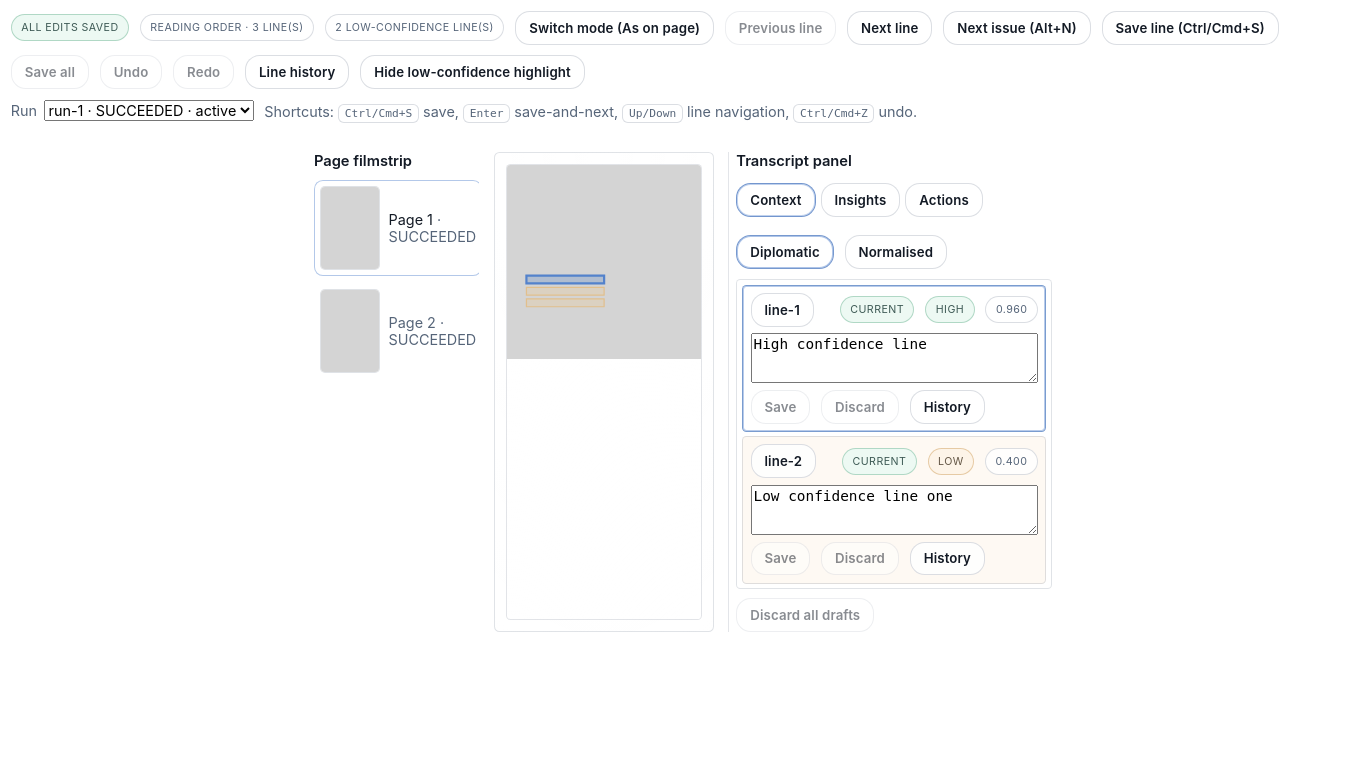
transcription workspace interactions › shows selected-line confidence inspector and char cues
Click the button "line-2" at (783, 461), box [750, 444, 816, 478]
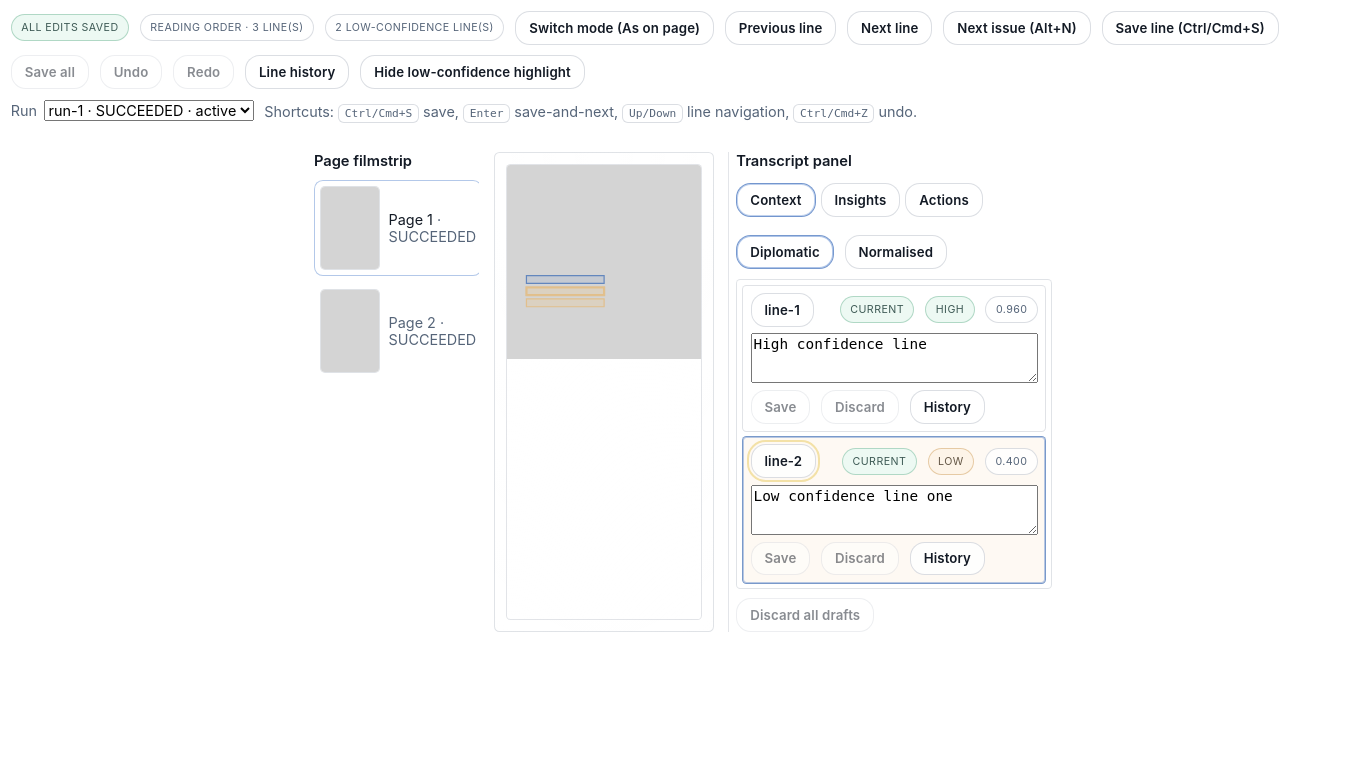
Click the tab "Insights" at (860, 200), box [821, 183, 900, 217]
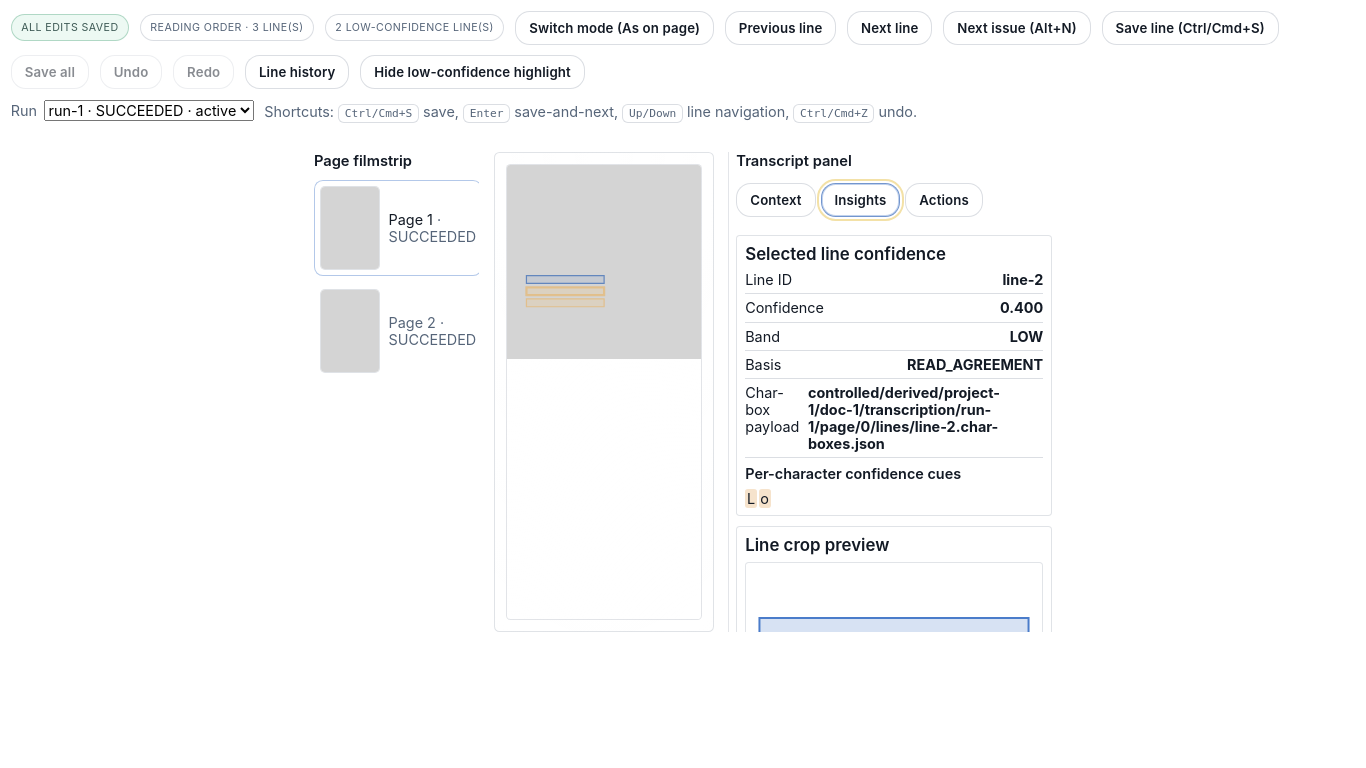
Expected: the heading "Selected line confidence" is shown, [745, 244, 946, 264]
Expected: the text "READ_AGREEMENT" is shown, [907, 356, 1043, 373]
Expected: the element named "Character confidence cues" is shown, [745, 489, 771, 508]
